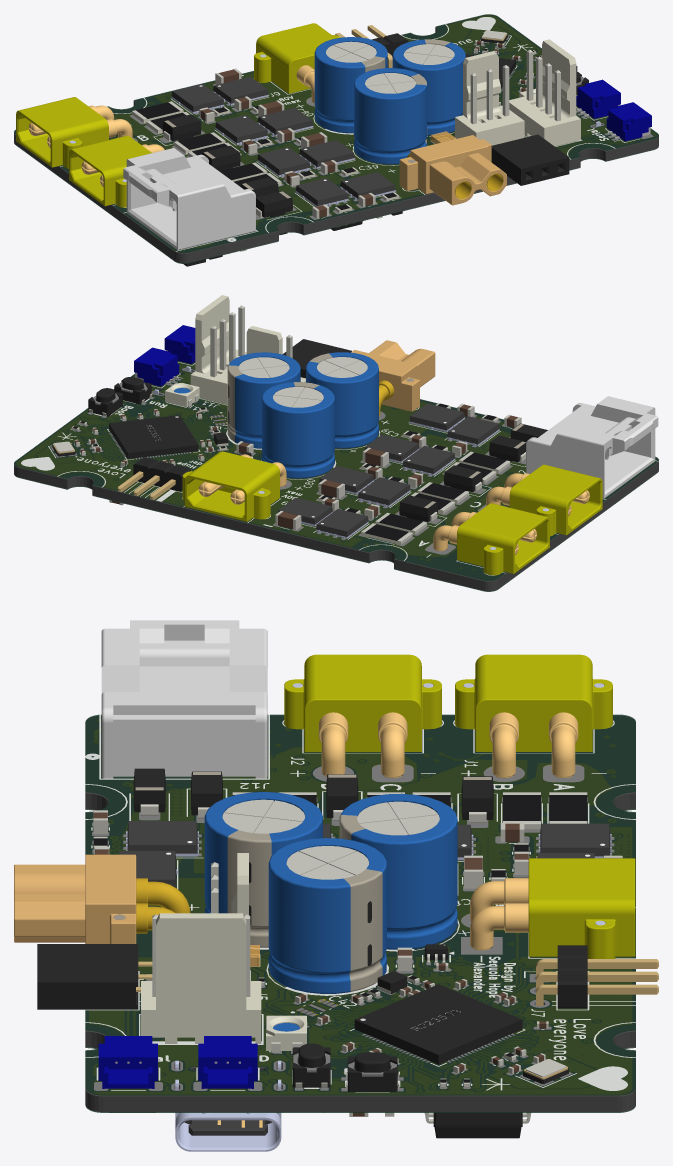
Rendered from board.glb.
The picture shows the model from 3 angles, top to bottom: view 1: azimuth 30°, elevation 25°; view 2: azimuth 150°, elevation 25°; view 3: azimuth 270°, elevation 25°; orthographic projection. The views are drawn at different scales.
Parts seen in each view (by area): view 1: CP_Radial_D10.0mm_P5.00mm (×3), rp2350_driver_soldermask (×2), XT30PW-M--3DModel-STEP-269445 (×3), SOLID, PowerPAK-SO8 (×8), rp2350_driver_PCB, rp2350_driver_copper, XT30PW-F, Molex_KK-254_AE-6410-04A_1x04_P2.54mm_Vertical, Molex_KK-254_AE-6410-03A_1x03_P2.54mm_Vertical, PinSocket_1x03_P2.54mm_Horizontal, D_SMA (×4) (+5 smaller); view 2: rp2350_driver_soldermask (×2), XT30PW-M--3DModel-STEP-269445 (×3), CP_Radial_D10.0mm_P5.00mm (×3), rp2350_driver_PCB, rp2350_driver_copper, SOLID, PowerPAK-SO8 (×8), Molex_KK-254_AE-6410-04A_1x04_P2.54mm_Vertical, XT30PW-F, D_SMA (×4), RP2350_QFN80, R_2512_6332Metric (×4) (+8 smaller); view 3: rp2350_driver_soldermask, XT30PW-M--3DModel-STEP-269445 (×3), CP_Radial_D10.0mm_P5.00mm (×3), rp2350_driver_copper, rp2350_driver_PCB, SOLID, Molex_KK-254_AE-6410-04A_1x04_P2.54mm_Vertical, XT30PW-F, RP2350_QFN80, rp2350_driver_silkscreen, PinSocket_1x03_P2.54mm_Horizontal, SM03B-SRSS-TB (×2) (+11 smaller).
Boxes of the visible parts, x1,y1,x2,y2 form: CP_Radial_D10.0mm_P5.00mm (×3): (314, 37, 465, 164); rp2350_driver_soldermask (×2): (14, 14, 658, 263); XT30PW-M--3DModel-STEP-269445 (×3): (16, 23, 340, 207); SOLID: (123, 148, 255, 253); PowerPAK-SO8 (×8): (171, 76, 395, 206); rp2350_driver_PCB: (14, 16, 658, 263); rp2350_driver_copper: (109, 16, 655, 249); XT30PW-F: (399, 135, 506, 205); Molex_KK-254_AE-6410-04A_1x04_P2.54mm_Vertical: (509, 39, 580, 146); Molex_KK-254_AE-6410-03A_1x03_P2.54mm_Vertical: (455, 51, 524, 145); PinSocket_1x03_P2.54mm_Horizontal: (491, 134, 569, 185); D_SMA (×4): (162, 114, 292, 217); rp2350_driver_soldermask (×2): (14, 361, 658, 591); XT30PW-M--3DModel-STEP-269445 (×3): (182, 451, 602, 575); CP_Radial_D10.0mm_P5.00mm (×3): (227, 352, 378, 478); rp2350_driver_PCB: (14, 369, 658, 591); rp2350_driver_copper: (17, 361, 653, 570); SOLID: (526, 396, 658, 498); PowerPAK-SO8 (×8): (278, 403, 499, 538); Molex_KK-254_AE-6410-04A_1x04_P2.54mm_Vertical: (190, 295, 246, 404); XT30PW-F: (351, 340, 435, 416); D_SMA (×4): (399, 423, 547, 522); RP2350_QFN80: (109, 415, 198, 458); R_2512_6332Metric (×4): (361, 451, 510, 545); rp2350_driver_soldermask: (85, 714, 635, 1095); XT30PW-M--3DModel-STEP-269445 (×3): (284, 654, 635, 958); CP_Radial_D10.0mm_P5.00mm (×3): (204, 792, 457, 993); rp2350_driver_copper: (89, 719, 631, 1094); rp2350_driver_PCB: (85, 716, 635, 1111); SOLID: (101, 620, 267, 778); Molex_KK-254_AE-6410-04A_1x04_P2.54mm_Vertical: (141, 913, 261, 1043); XT30PW-F: (14, 854, 190, 943); RP2350_QFN80: (354, 984, 522, 1064); rp2350_driver_silkscreen: (85, 714, 635, 1092); PinSocket_1x03_P2.54mm_Horizontal: (37, 944, 152, 1009); SM03B-SRSS-TB (×2): (98, 1036, 257, 1088).
Size of the model in its own units: 0.0783 by 0.0188 by 0.0544.
